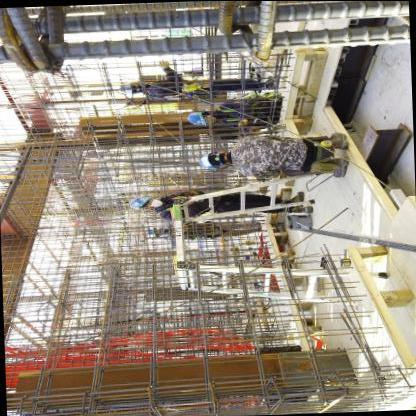safety-shoe: (328, 155, 351, 179), (326, 129, 348, 151), (291, 203, 316, 215)
